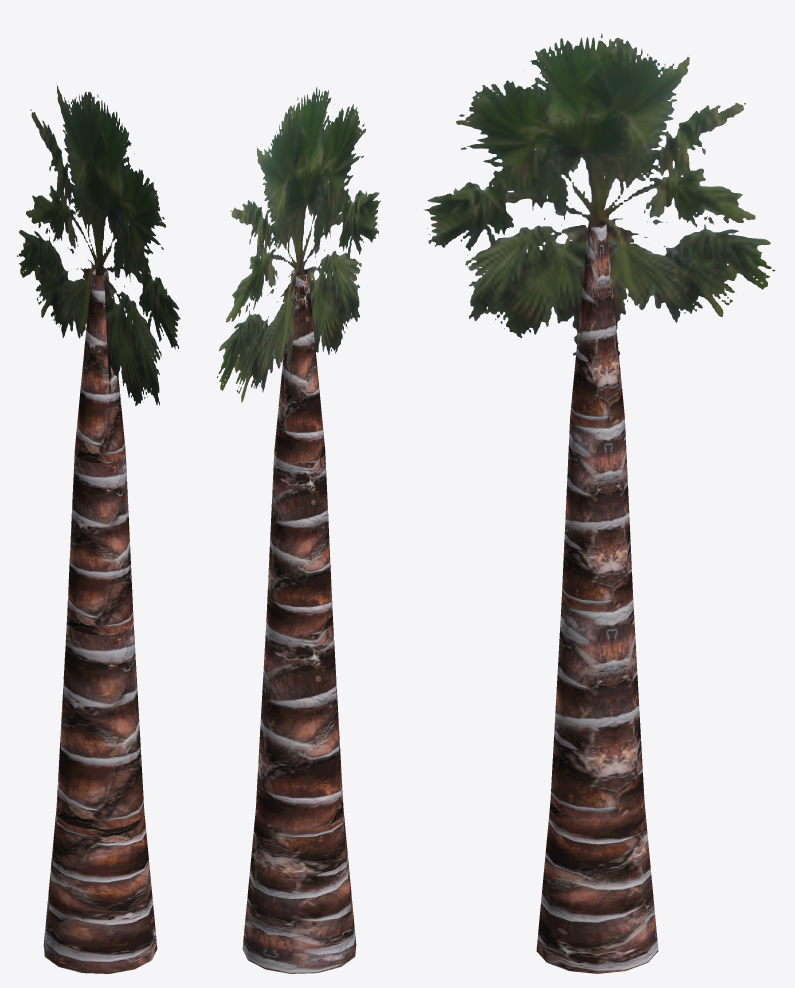
File: PalmTree_02.fbx
3 renders of one model, left to right at view 1: azimuth 30°, elevation 25°; view 2: azimuth 150°, elevation 25°; view 3: azimuth 270°, elevation 25°, orthographic. The views are drawn at different scales.
Visible parts, largest first — view 1: Cylinder002, Plane005; view 2: Cylinder002, Plane005; view 3: Plane005, Cylinder002.
Boxes of the visible parts, <box> form: Cylinder002: <box>43,269,157,973</box>; Plane005: <box>17,83,180,405</box>; Cylinder002: <box>242,269,356,973</box>; Plane005: <box>217,87,380,403</box>; Plane005: <box>424,33,775,355</box>; Cylinder002: <box>536,223,658,973</box>.
Bounding box in the file's own units: 213 × 645 × 1813.
